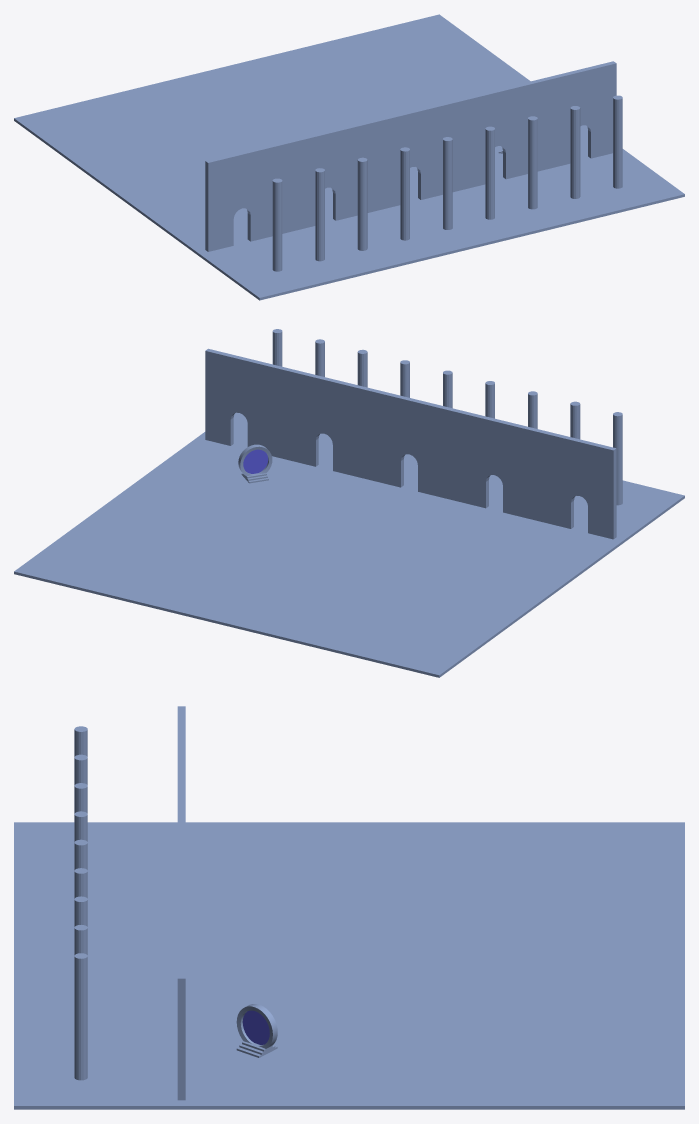
File: terrain.fbx
The picture shows the model from 3 angles, top to bottom: view 1: azimuth 30°, elevation 25°; view 2: azimuth 150°, elevation 25°; view 3: azimuth 270°, elevation 25°; orthographic projection. The views are drawn at different scales.
Parts seen in each view (by area): view 1: Floor, Cube, SpawnArea, Cylinder; view 2: Floor, Cube, SpawnArea, Cylinder; view 3: Floor, SpawnArea, Cylinder, Cube, Gateway, GatewayShader.
Boxes of the visible parts, <box> form: Floor: <box>14,14,684,300</box>; Cube: <box>205,61,616,251</box>; SpawnArea: <box>51,26,657,285</box>; Cylinder: <box>272,95,622,271</box>; Floor: <box>14,412,684,677</box>; Cube: <box>205,348,616,539</box>; SpawnArea: <box>79,419,586,663</box>; Cylinder: <box>272,329,622,505</box>; Floor: <box>14,822,684,1109</box>; SpawnArea: <box>41,833,657,1094</box>; Cylinder: <box>74,726,87,1080</box>; Cube: <box>177,706,185,1100</box>; Gateway: <box>236,1004,277,1048</box>; GatewayShader: <box>242,1010,269,1044</box>.
Size of the model in its own units: 50 by 10.29 by 50.
